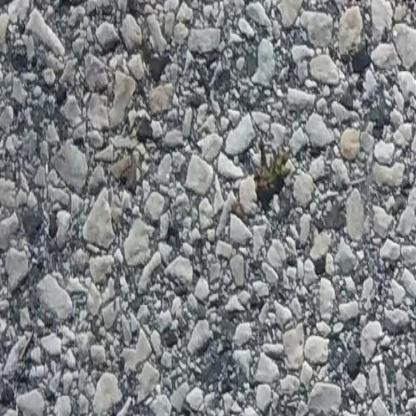Cracks: (325, 0, 416, 16)
